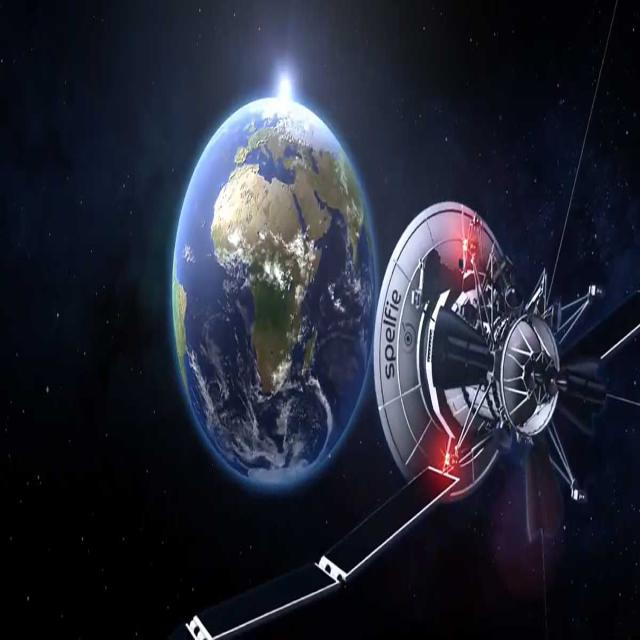satellite: (178, 126, 640, 640)
